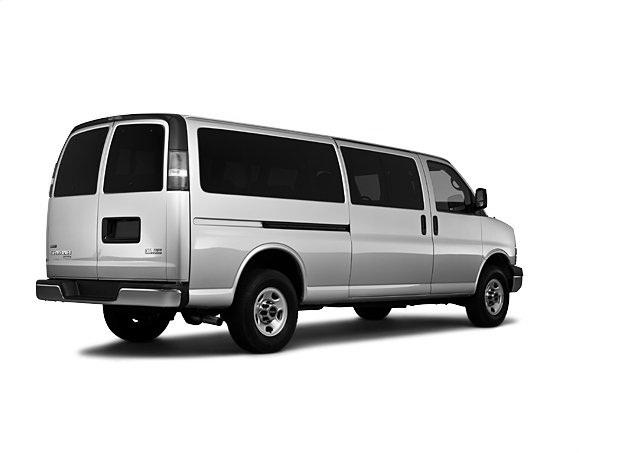car: (36, 112, 526, 357)
